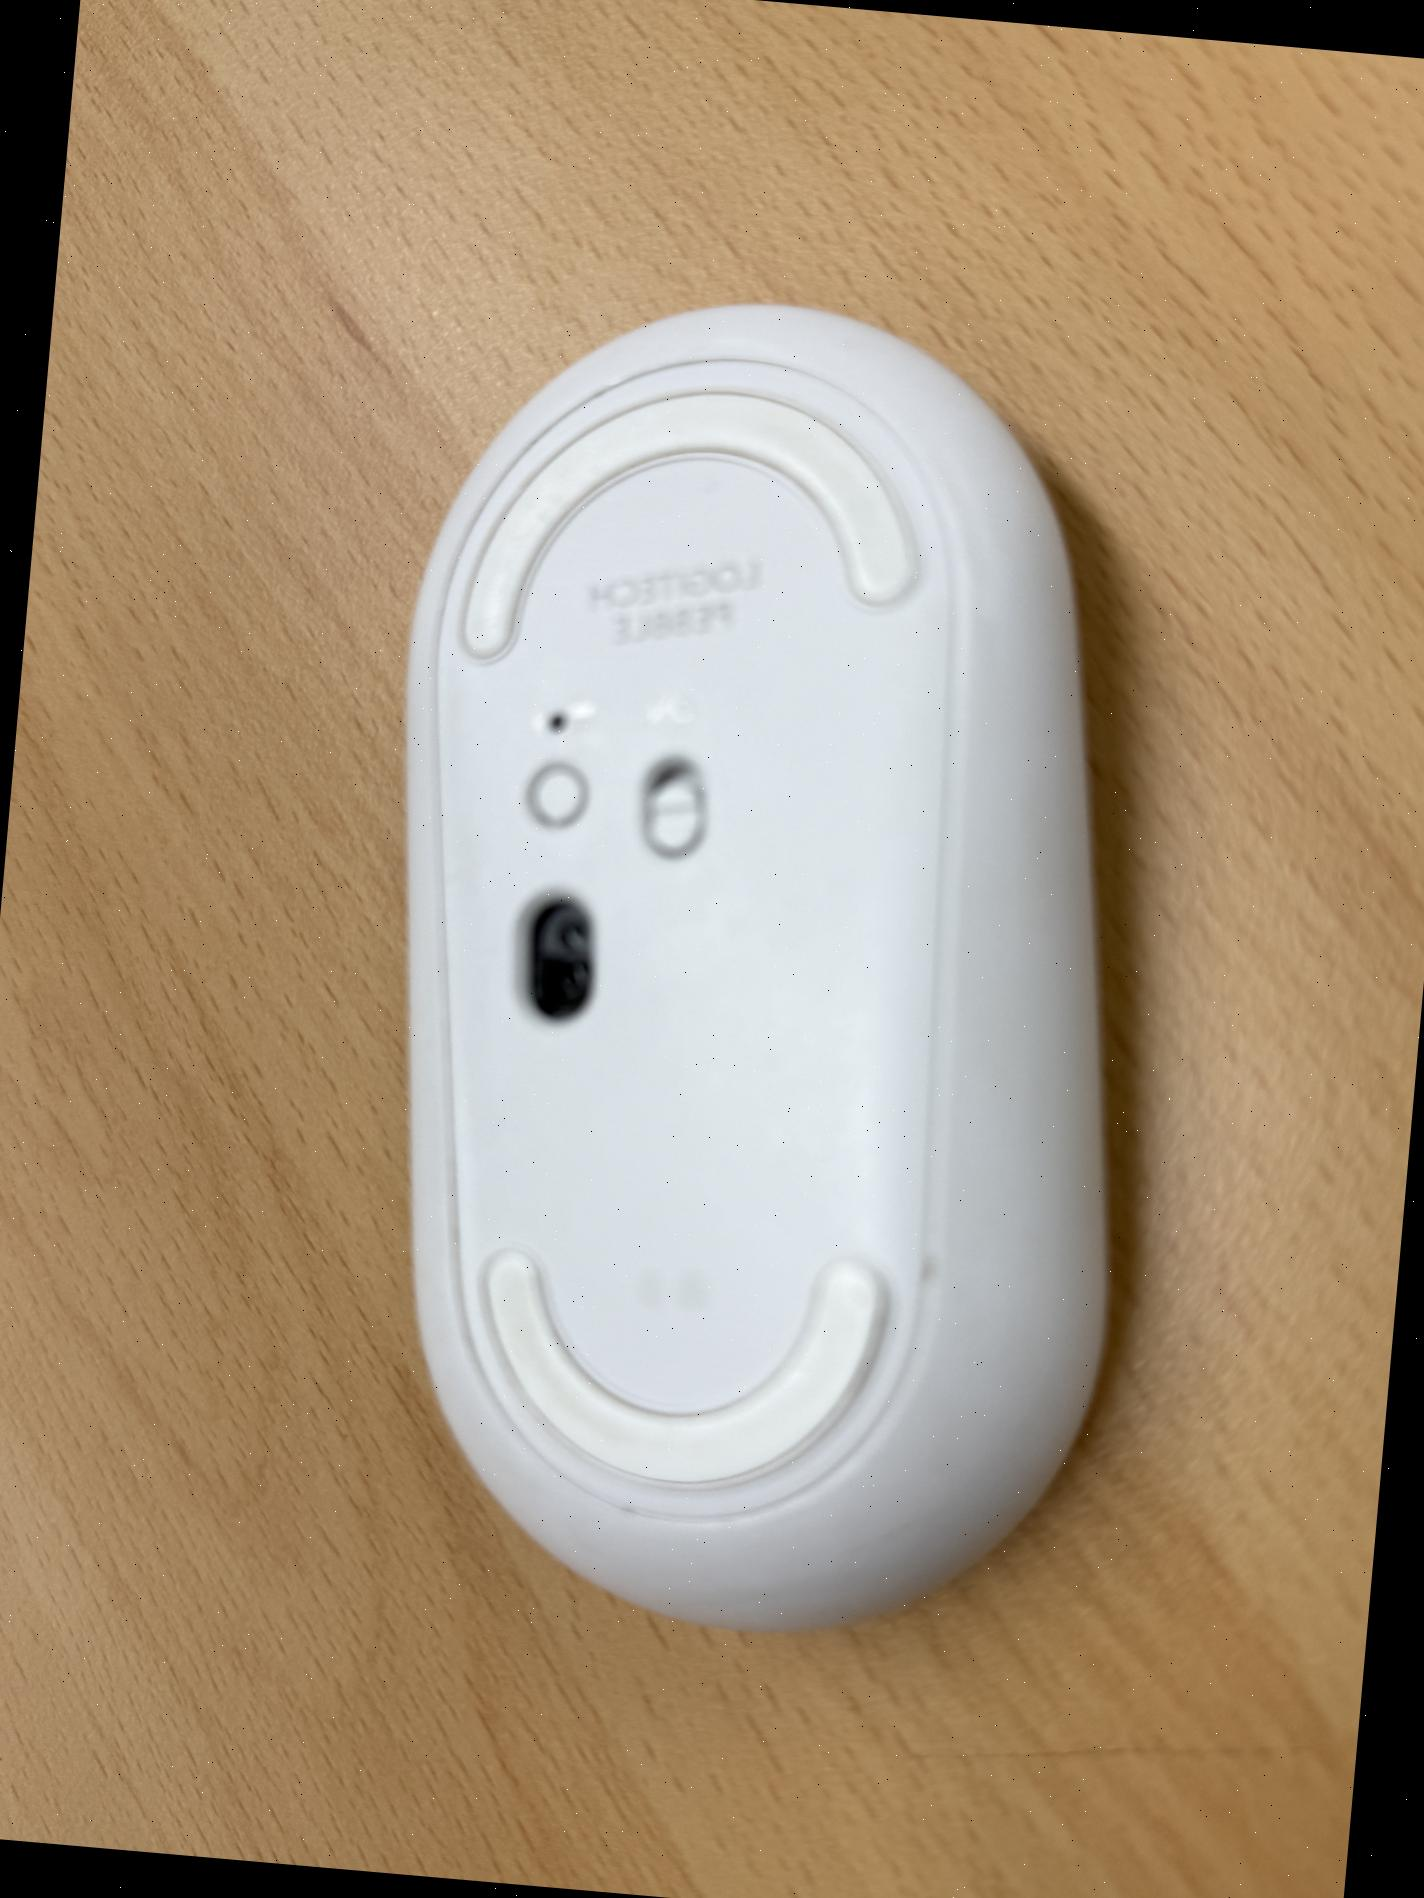back: (313, 259, 1206, 1674)
